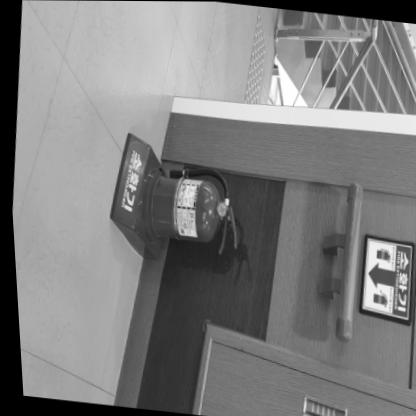FE: (97, 131, 245, 268)
